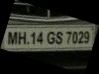character: (6, 30, 17, 45), (17, 30, 26, 45), (46, 30, 55, 45), (35, 31, 43, 45), (55, 30, 62, 45), (77, 30, 84, 44), (71, 31, 78, 44), (30, 30, 36, 45), (65, 30, 71, 44), (83, 30, 89, 44)
